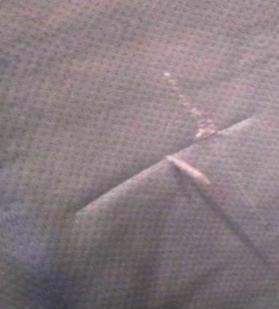snag: (160, 136, 217, 198)
